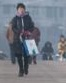person: (5, 2, 40, 77), (6, 23, 18, 65), (41, 40, 55, 61), (56, 35, 66, 60)
